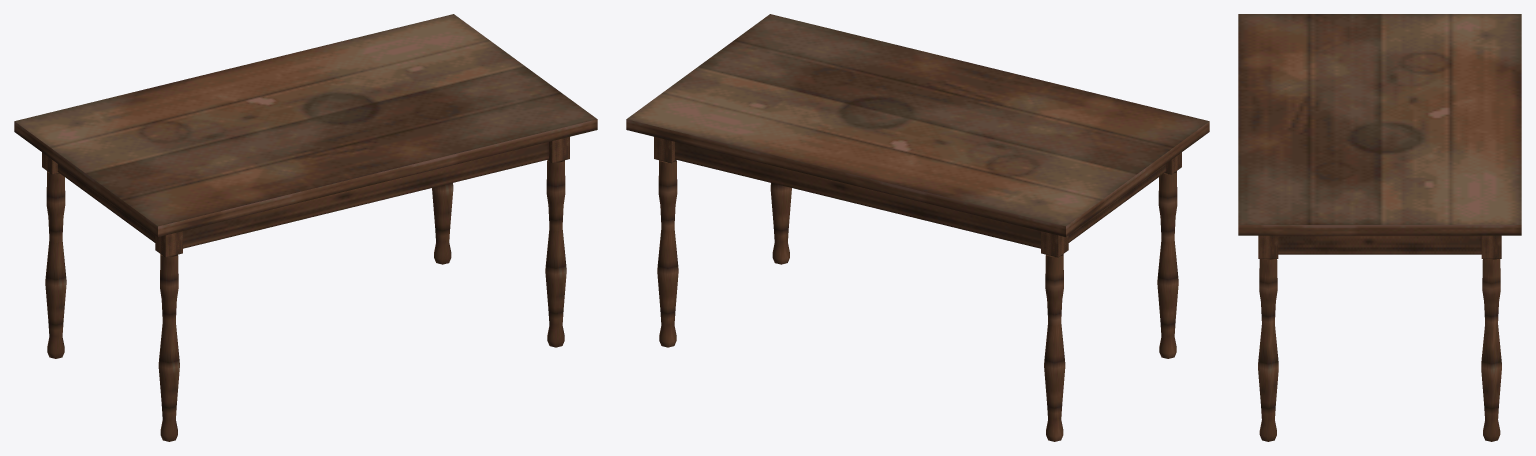
Rendered from table_dining.obj.
3 renders of one model, left to right at view 1: azimuth 30°, elevation 25°; view 2: azimuth 150°, elevation 25°; view 3: azimuth 270°, elevation 25°, orthographic.
Parts seen in each view (by area): view 1: table_dining; view 2: table_dining; view 3: table_dining.
Part boxes in pixels (x1=…): table_dining: x1=14, y1=14, x2=597, y2=441; table_dining: x1=626, y1=14, x2=1209, y2=441; table_dining: x1=1238, y1=14, x2=1521, y2=441.
Size of the model in its own units: 1.5 by 0.75 by 0.85.
Materials: 1 (1 with a texture image).
